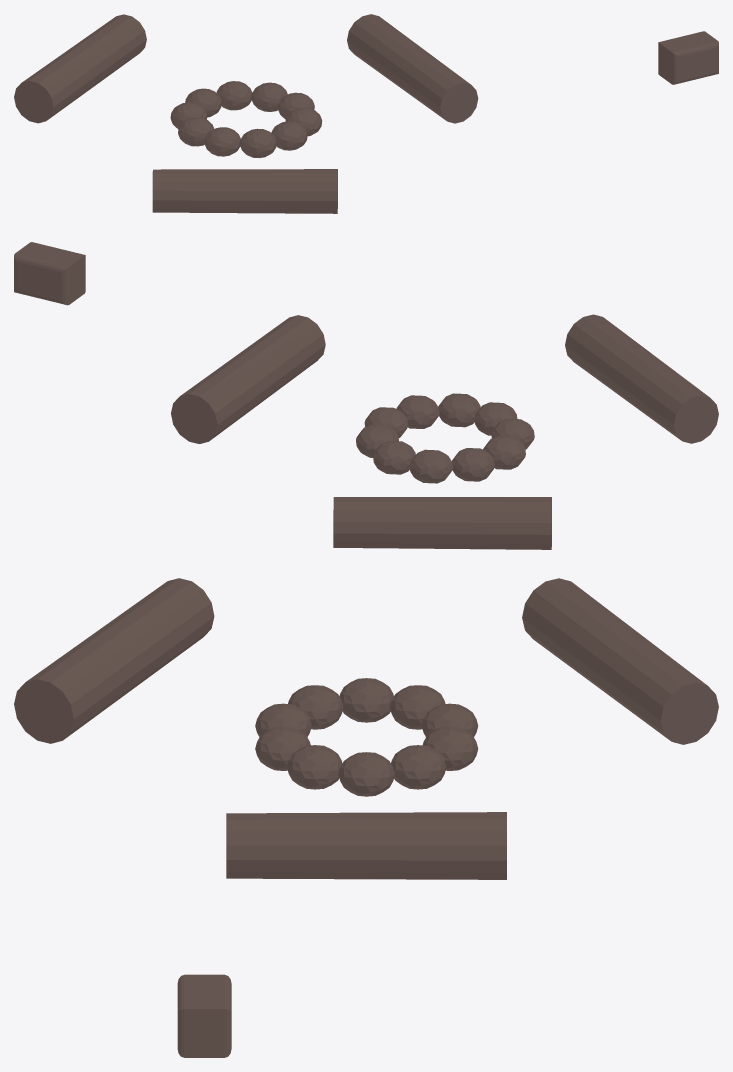
The model's file is campsite.ol.glb.
3 views of the same model, one above another, from view 1: azimuth 30°, elevation 25°; view 2: azimuth 150°, elevation 25°; view 3: azimuth 270°, elevation 25° (orthographic). The views are drawn at different scales.
Bounding box in the file's own units: 15.52 × 1.1 × 10.87.
